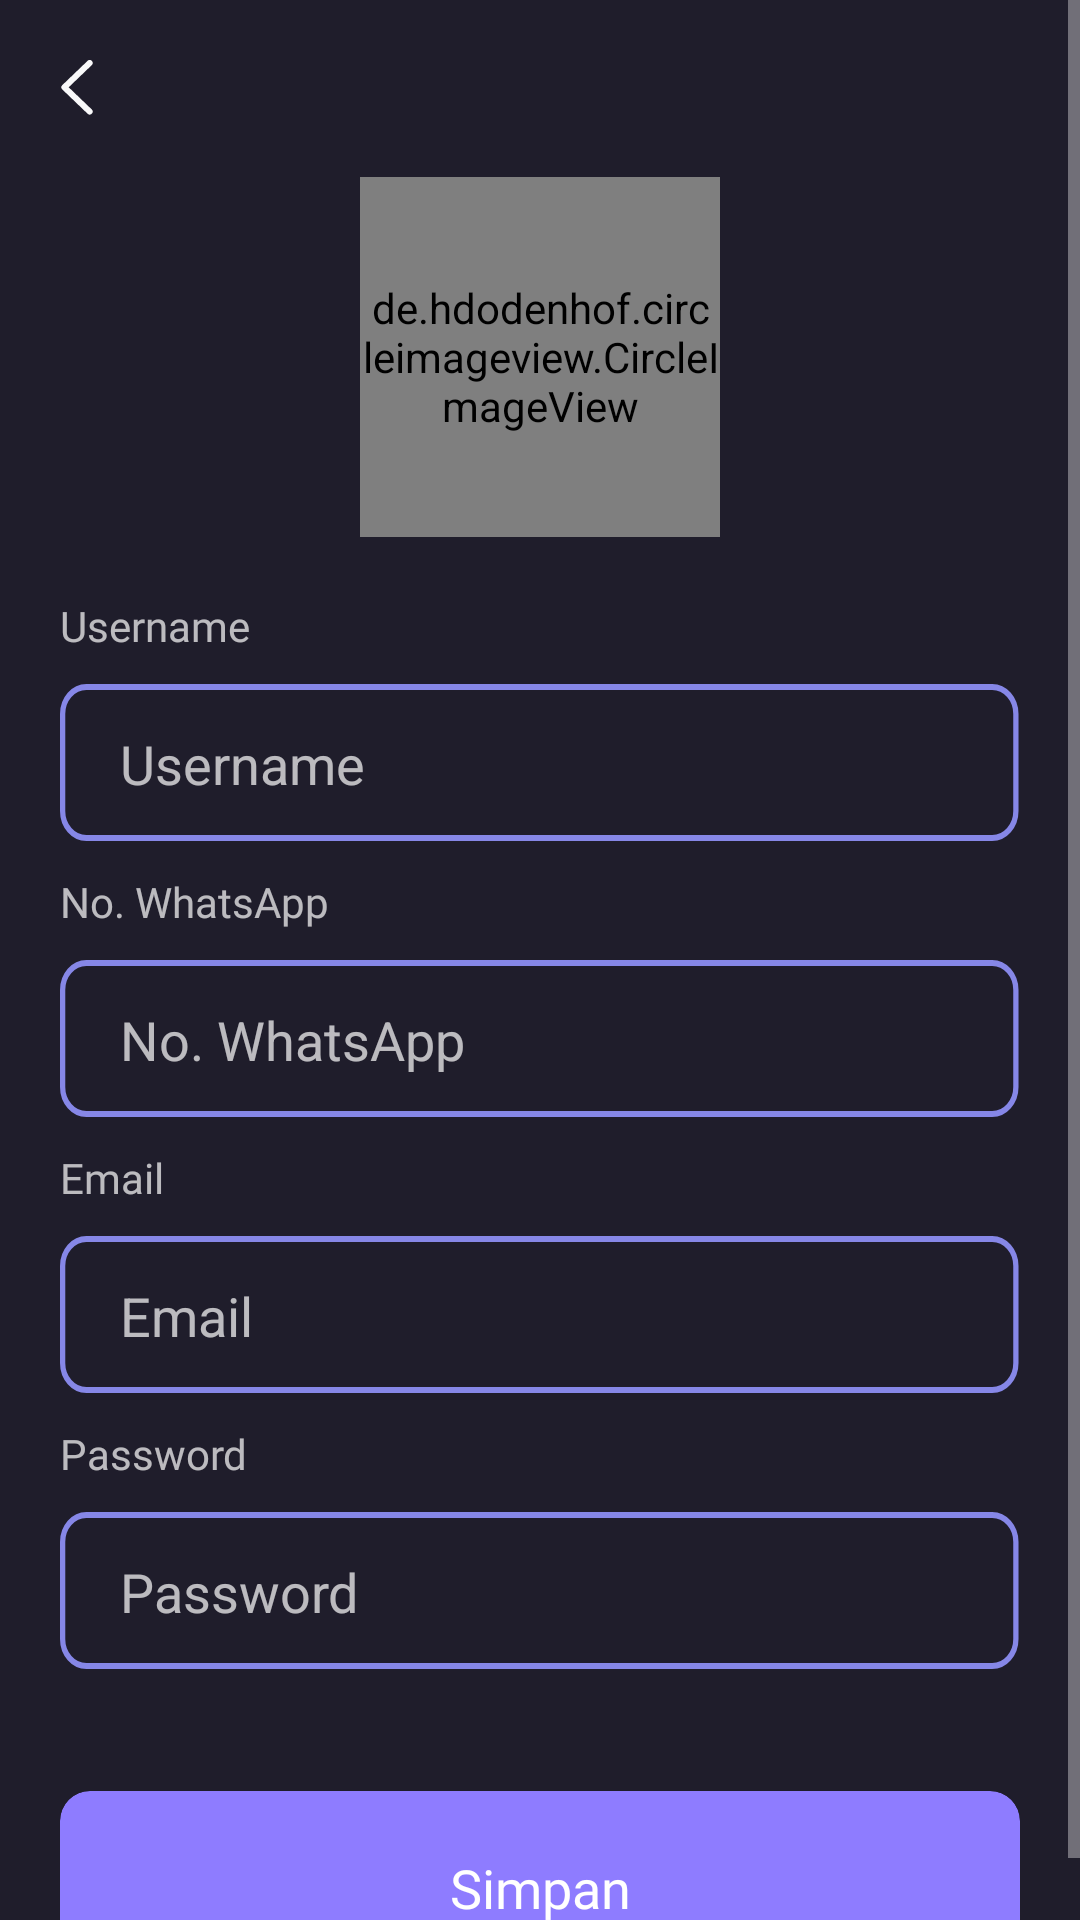

Screen size 1080w x 1920h. Icon name, then its center in pixels as [x,y]:
backrow: [77,87]
